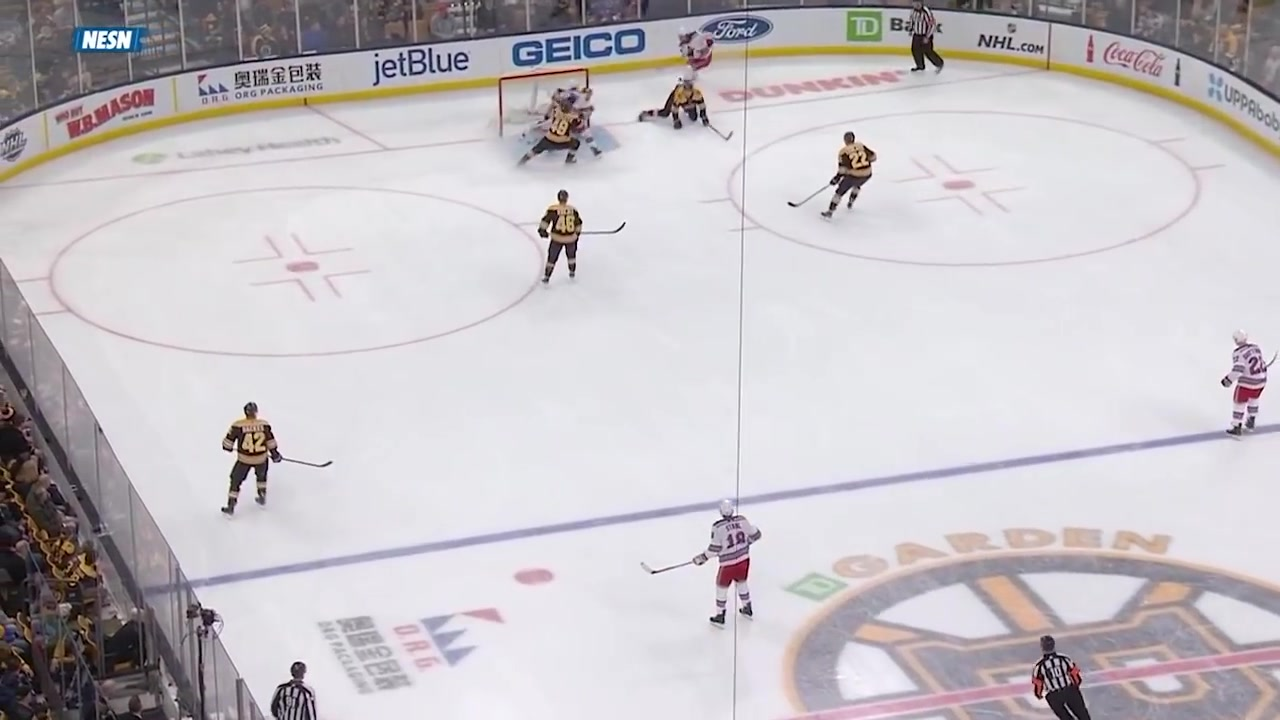Geico: (505, 26, 661, 71)
